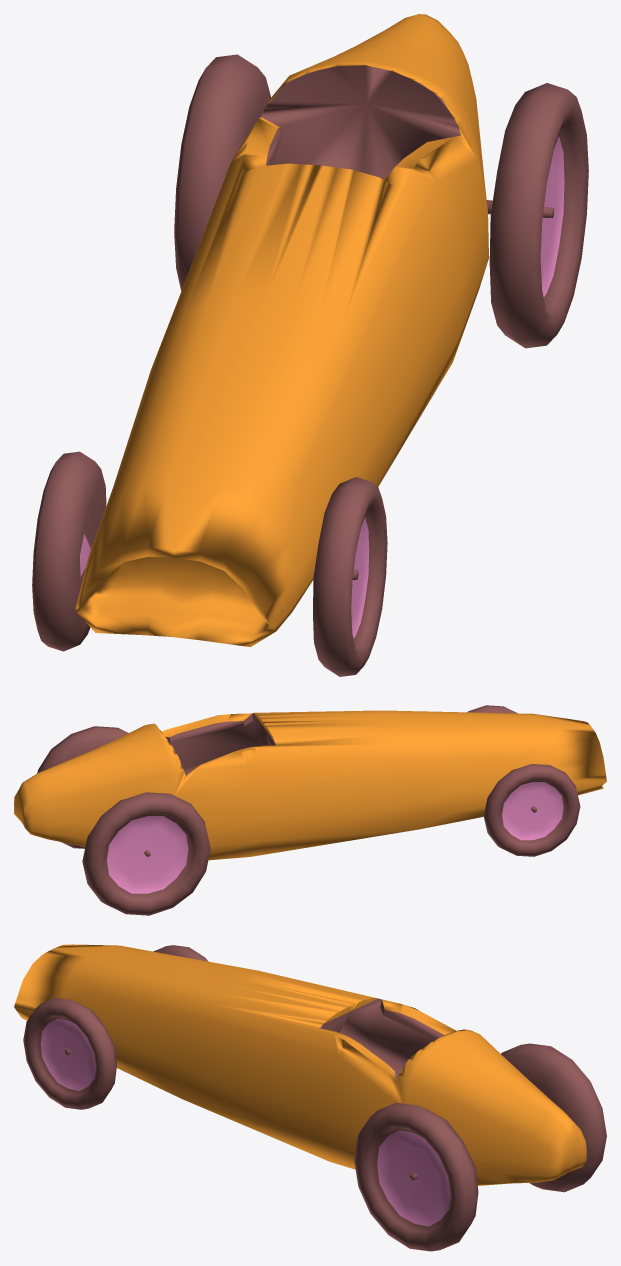
Rendered from ToyObject_067.fbx.
The picture shows the model from 3 angles, top to bottom: view 1: azimuth 30°, elevation 25°; view 2: azimuth 150°, elevation 25°; view 3: azimuth 270°, elevation 25°; orthographic projection. The views are drawn at different scales.
Visible parts, largest first — view 1: object-1.032; view 2: object-1.032; view 3: object-1.032.
Part boxes in pixels (x1,y1,x2,y2): object-1.032: [32, 14, 588, 676]; object-1.032: [14, 705, 606, 915]; object-1.032: [14, 944, 606, 1251].
Size of the model in its own units: 0.1963 by 0.066 by 0.2083.
